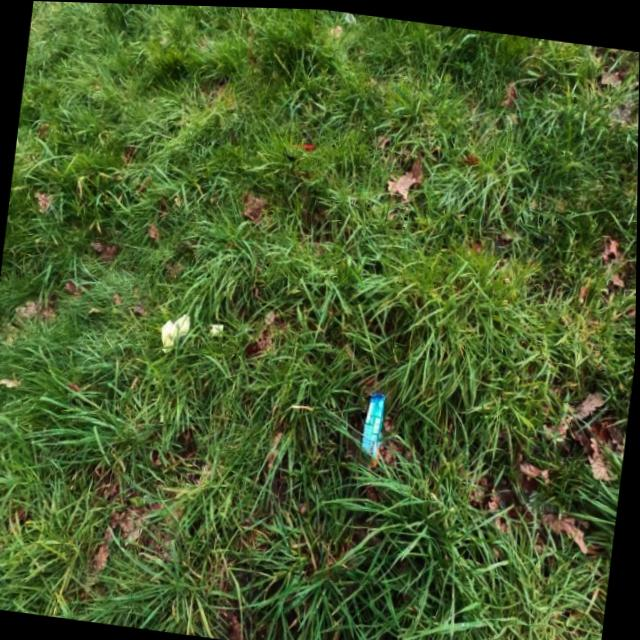Plastic: (358, 387, 389, 466), (158, 308, 190, 354), (207, 319, 224, 336)
